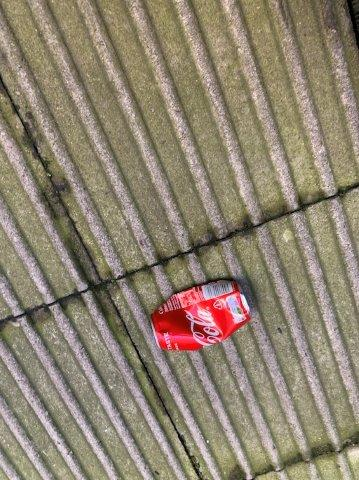kaleng: (151, 282, 250, 349)
